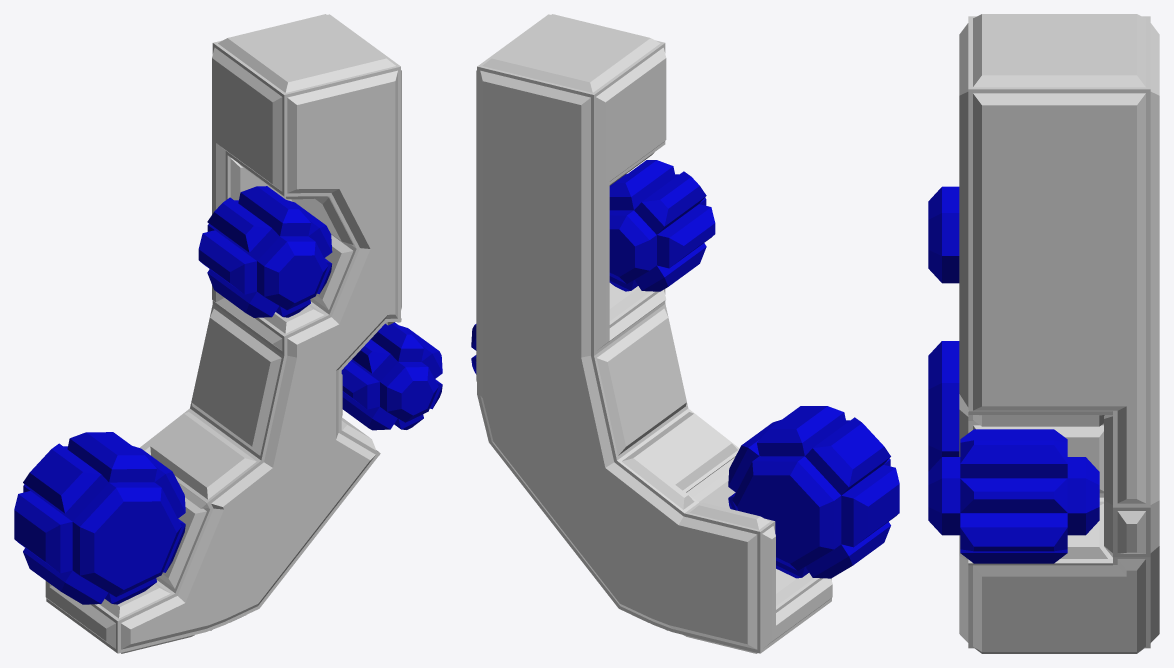
The picture shows the model from 3 angles, left to right: view 1: azimuth 30°, elevation 25°; view 2: azimuth 150°, elevation 25°; view 3: azimuth 270°, elevation 25°; orthographic projection. The views are drawn at different scales.
Parts seen in each view (by area): view 1: sphere1; view 2: sphere1; view 3: sphere1.
Part boxes in pixels (x1,y1,x2,y2): sphere1: (14, 14, 442, 653); sphere1: (471, 14, 899, 653); sphere1: (928, 14, 1159, 653).
Size of the model in its own units: 0.6401 by 0.82 by 0.2541.
